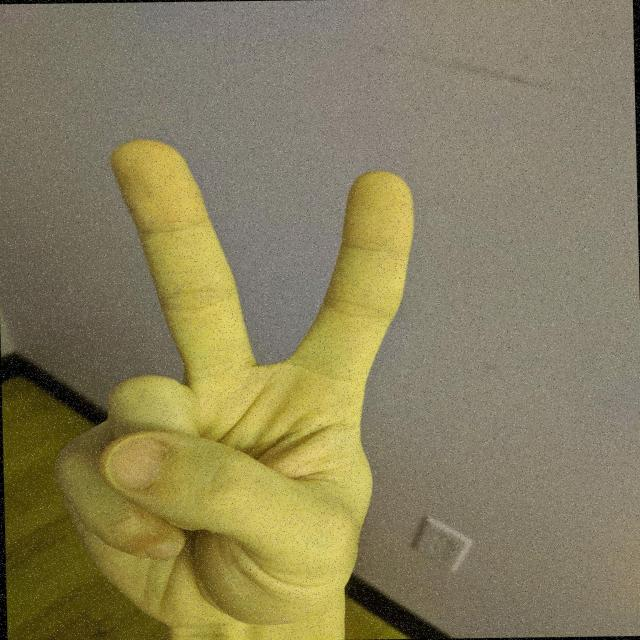V: (38, 130, 434, 640)
